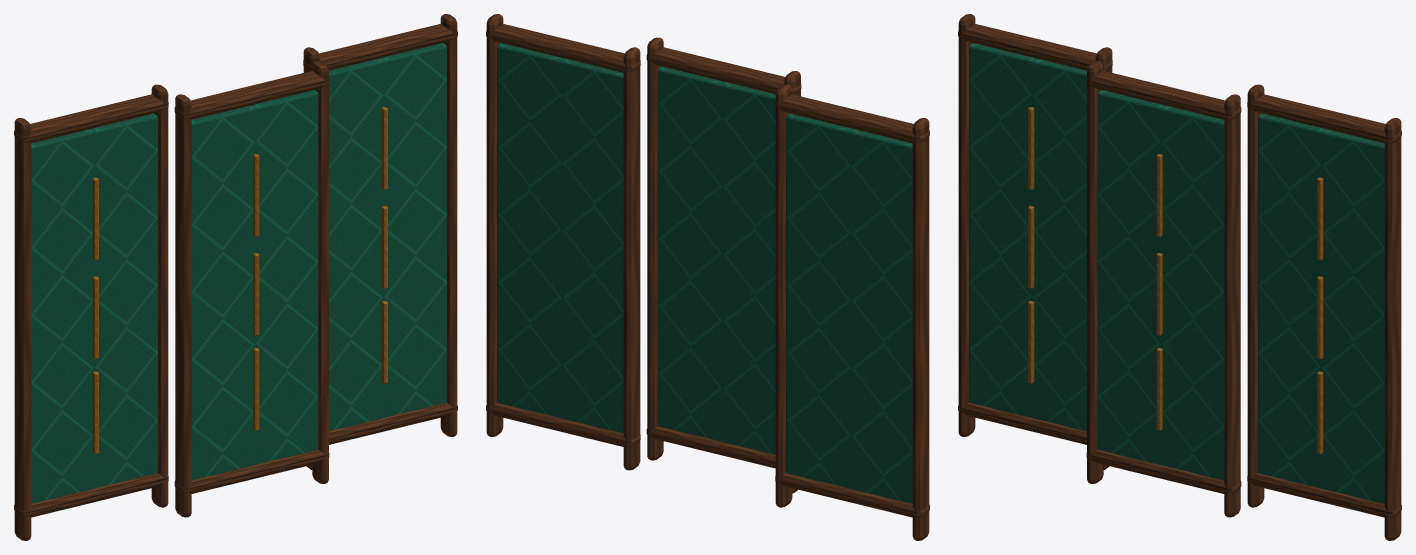
File: folding_screen.glb
The picture shows the model from 3 angles, left to right: view 1: azimuth 30°, elevation 25°; view 2: azimuth 150°, elevation 25°; view 3: azimuth 330°, elevation 25°; orthographic projection.
Visible parts, largest first — view 1: folding_screen_Silk, folding_screen_Walnut, folding_screen_Brass; view 2: folding_screen_Silk, folding_screen_Walnut; view 3: folding_screen_Silk, folding_screen_Walnut, folding_screen_Brass.
Boxes of the visible parts, box(x1,y1,x2,y2) form: folding_screen_Silk: box(31, 43, 446, 503); folding_screen_Walnut: box(14, 14, 457, 540); folding_screen_Brass: box(92, 107, 387, 454); folding_screen_Silk: box(497, 43, 912, 503); folding_screen_Walnut: box(486, 14, 929, 540); folding_screen_Silk: box(969, 43, 1384, 503); folding_screen_Walnut: box(958, 14, 1401, 540); folding_screen_Brass: box(1028, 107, 1323, 454).
Bounding box in the file's own units: 2.36 × 2.16 × 0.2525.
3 materials, 3 textured.
